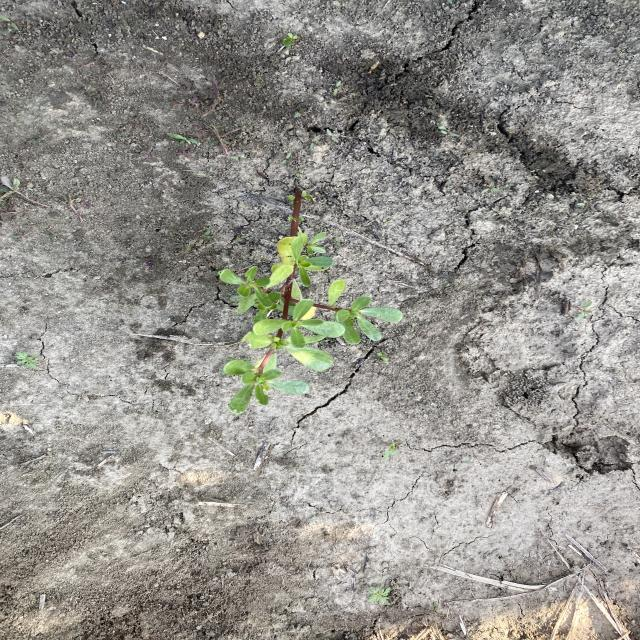Purslane: (217, 185, 405, 416)
